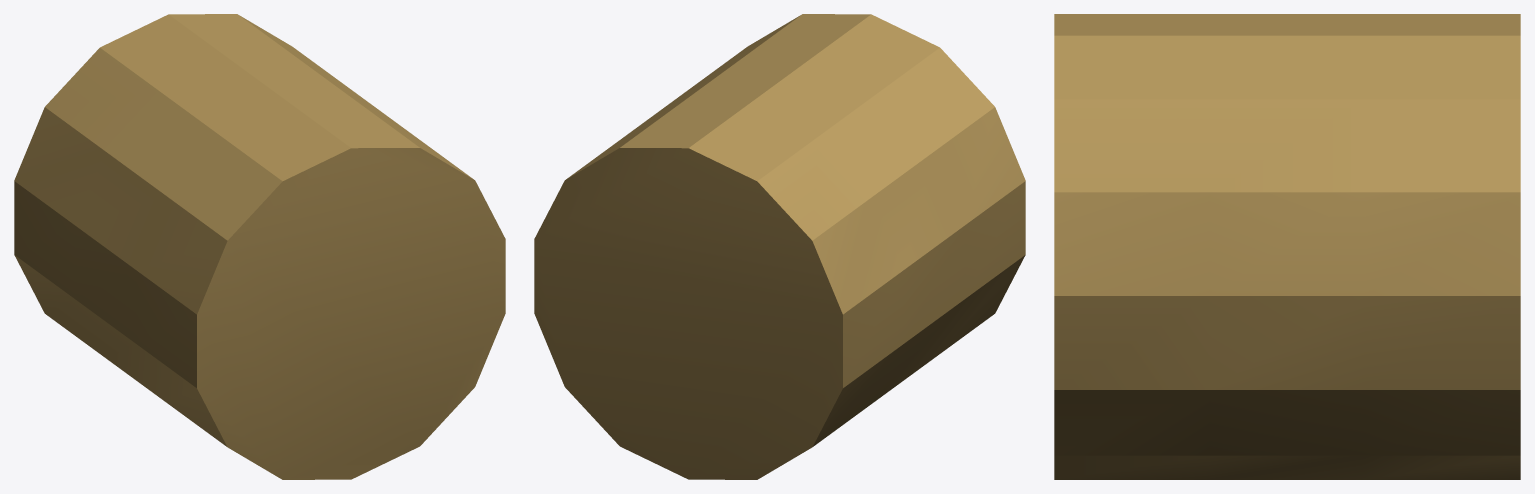
The model's file is haybale.glb.
The picture shows the model from 3 angles, left to right: view 1: azimuth 30°, elevation 25°; view 2: azimuth 150°, elevation 25°; view 3: azimuth 270°, elevation 25°; orthographic projection. The views are drawn at different scales.
Visible parts, largest first — view 1: haybale; view 2: haybale; view 3: haybale.
Boxes of the visible parts, box(x1,y1,x2,y2) form: haybale: box(14, 14, 505, 479); haybale: box(534, 14, 1025, 479); haybale: box(1054, 14, 1520, 479).
Bounding box in the file's own units: 1.17 × 1.2 × 1.2.
